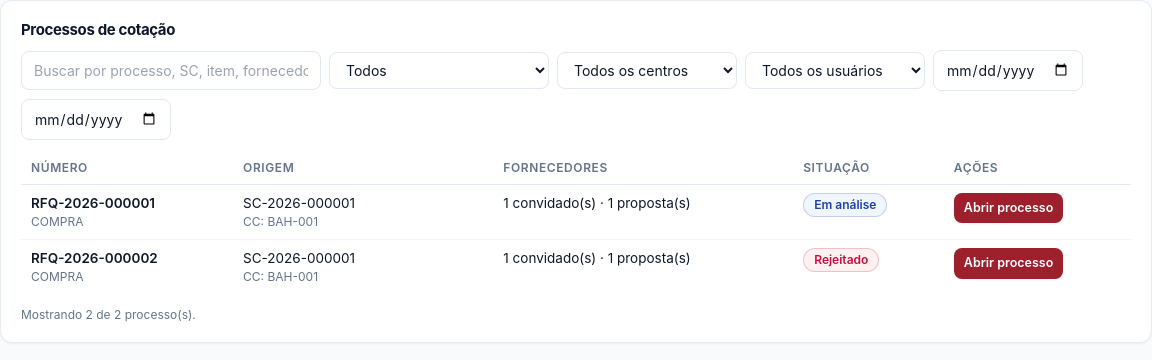
tela Processos de cotação › o filtro de situação vai para o servidor, e não peneira a lista carregada
The image size is (1152, 360).
Expected: the table with test id "tabela-processos" is shown, [21,152,1131,294]
Expected: the number of links "Abrir processo" is 2, [954,192,1063,223]; [954,248,1063,279]
Select "Rejeitados" in the dropdown named "Situação do processo" at (439, 70), box [329,52,549,88]
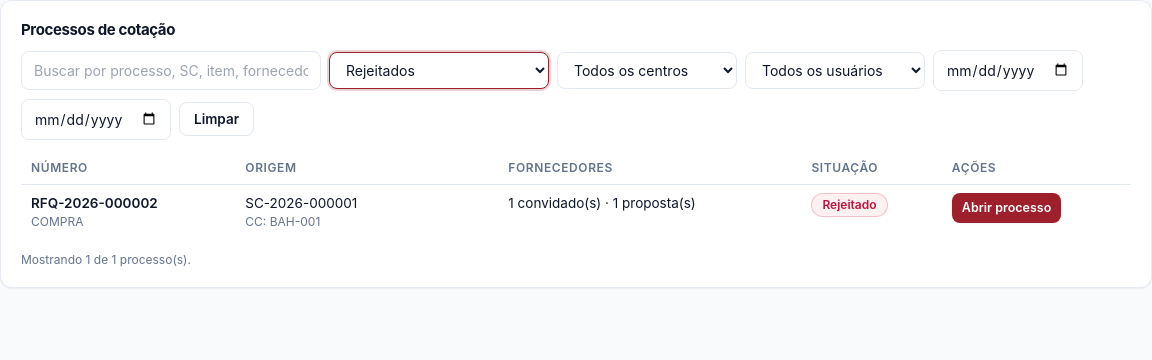
Expected: the number of links "Abrir processo" is 1, [952,192,1061,223]
